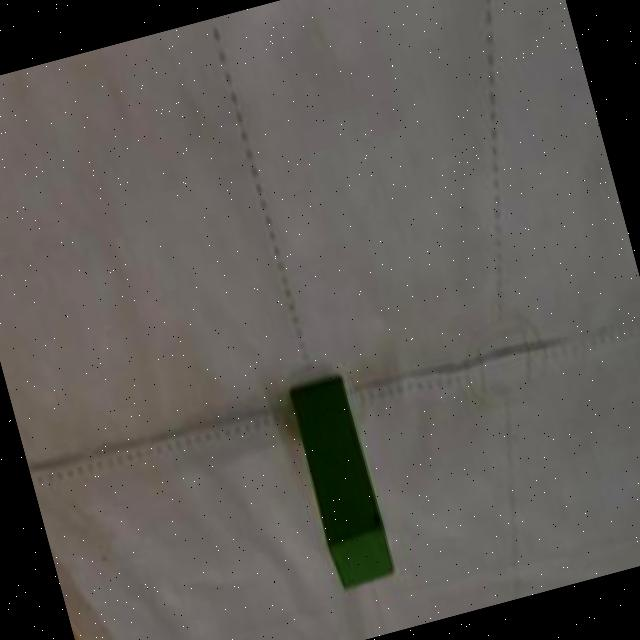greenbox: (288, 376, 395, 590)
